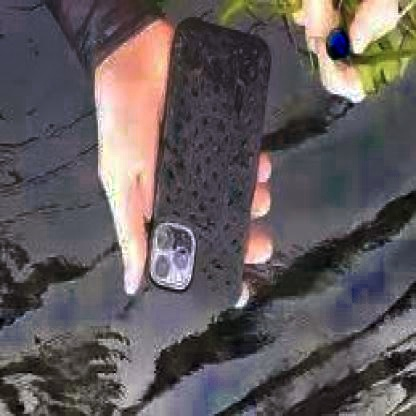cellphone: (149, 17, 273, 307)
